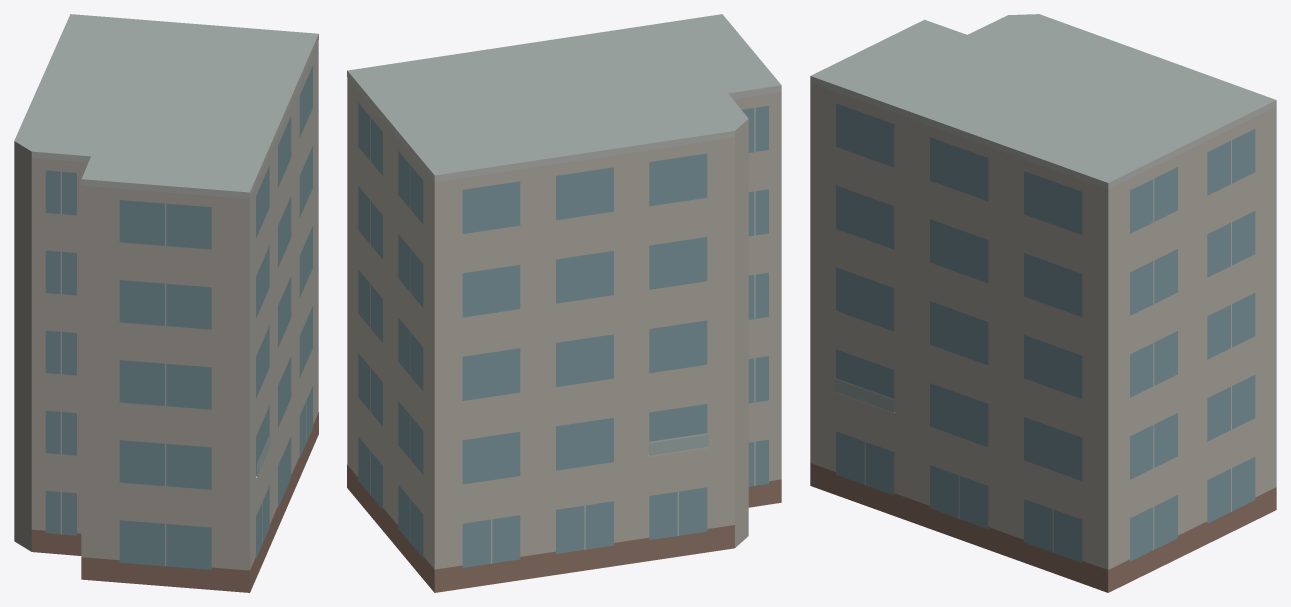
Rendered from survey-upis-32693089.glb.
3 views of the same model, side by side, from view 1: azimuth 30°, elevation 25°; view 2: azimuth 150°, elevation 25°; view 3: azimuth 270°, elevation 25° (orthographic). The views are drawn at different scales.
Parts seen in each view (by area): view 1: survey-upis-32693089.tmp; view 2: survey-upis-32693089.tmp; view 3: survey-upis-32693089.tmp.
Part boxes in pixels (bbox=[...]): survey-upis-32693089.tmp: bbox=[14, 14, 318, 592]; survey-upis-32693089.tmp: bbox=[347, 14, 781, 592]; survey-upis-32693089.tmp: bbox=[810, 14, 1276, 592].
Size of the model in its own units: 13.45 by 15.2 by 15.68.
